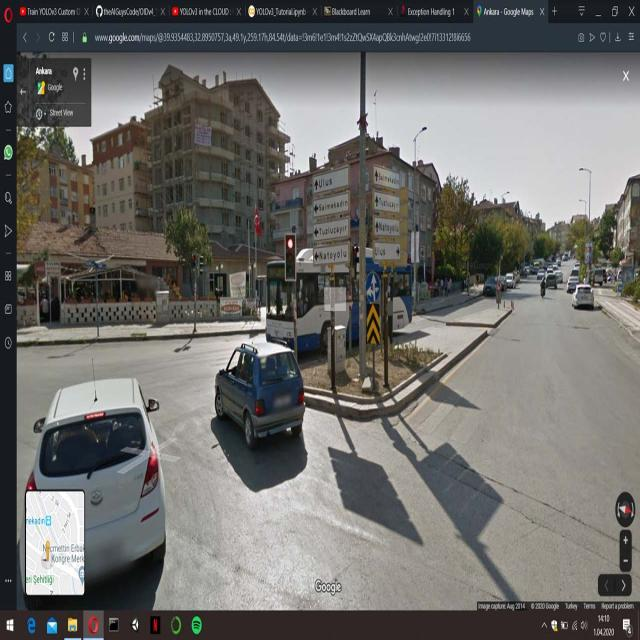ilerisol: (364, 271, 380, 302)
kirmizi: (286, 234, 296, 281)
